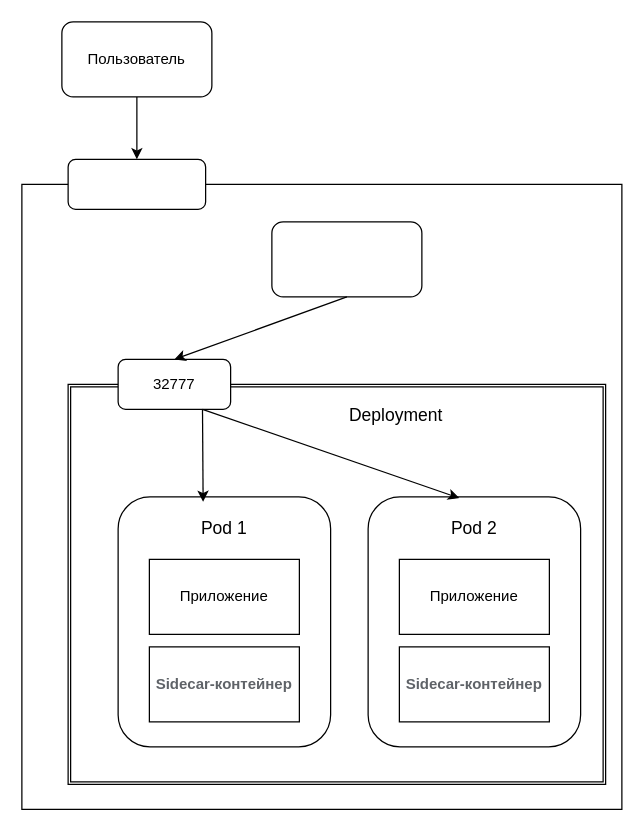
This 644x831 diagram has some shape labels left out. Each missing label, with the centre of its shape:
"Kubernetes service" goes at (x=346, y=259).
"port" goes at (x=136, y=183).
